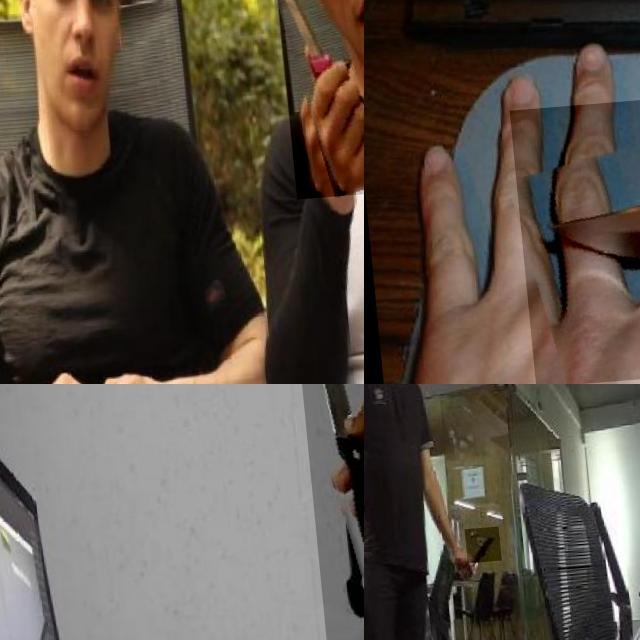-: (505, 81, 640, 384), (268, 0, 364, 205), (288, 384, 364, 640), (454, 532, 492, 568)
